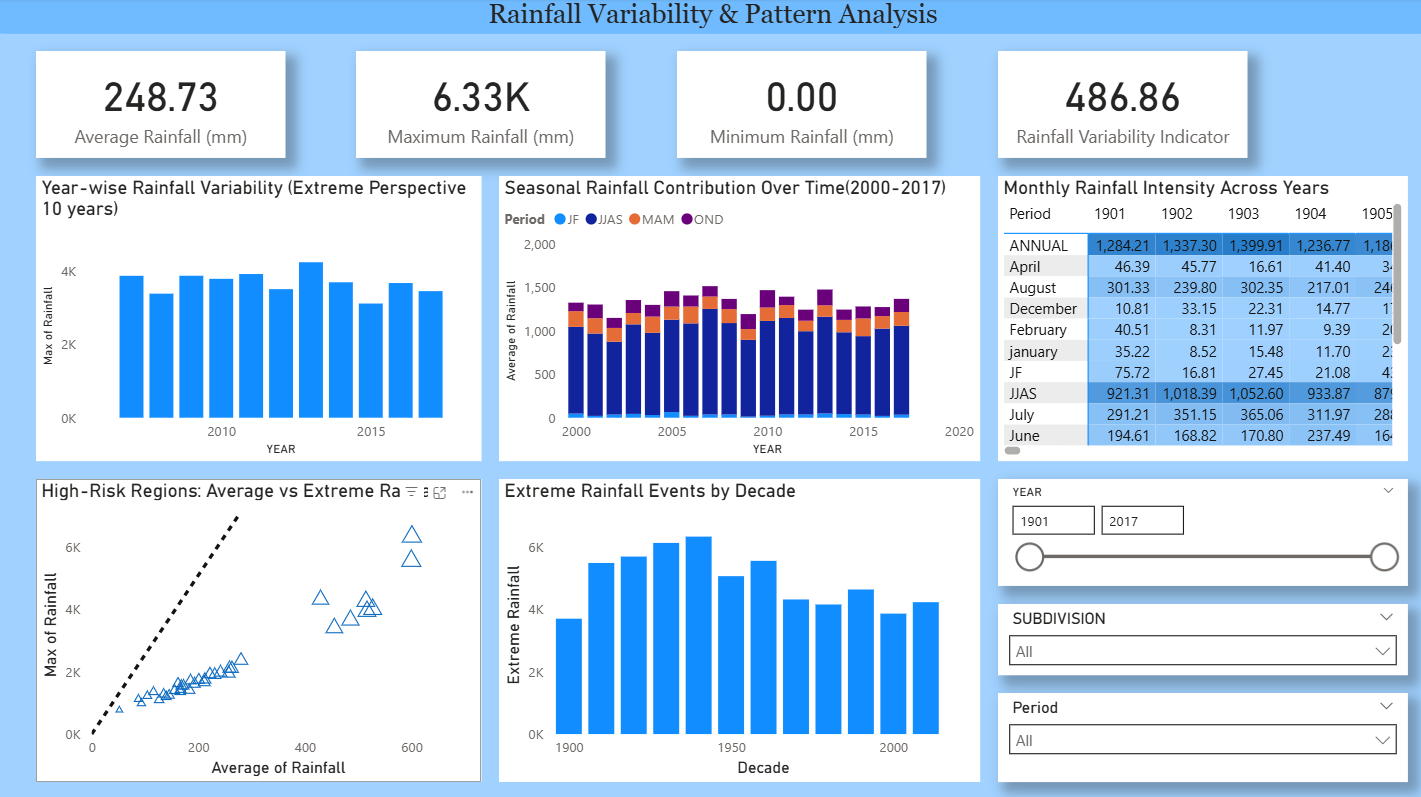

Layout of this report page (visuals, bound fields, positions):
{"tool":"powerbi","page":{"name":"Rainfall Variability & Patterns","canvas":[1280,720],"ordinal":2},"visuals":[{"type":"textbox","title":"Rainfall Variability & Pattern Analysis","box":[0,0,1280,32],"z":0},{"type":"card","fields":{"Values":["Avg(Fact_Rainfall.Rainfall)"]},"box":[32,48,224,96],"z":1000},{"type":"card","fields":{"Values":["Max(Fact_Rainfall.Rainfall)"]},"box":[320,48,224,96],"z":2000},{"type":"card","fields":{"Values":["Min(Fact_Rainfall.Rainfall)"]},"box":[608,48,224,96],"z":3000},{"type":"card","fields":{"Values":["Sum(Fact_Rainfall.Rainfall)"]},"box":[896,48,224,96],"z":4000},{"type":"clusteredColumnChart","title":"Year-wise Rainfall Variability (Extreme Perspective 10 years)","fields":{"Category":["Dim_Year.YEAR"],"Y":["Max(Fact_Rainfall.Rainfall)"]},"box":[32,160,400,256],"z":5000},{"type":"scatterChart","title":"High-Risk Regions: Average vs Extreme Rainfall","fields":{"Category":["Dim_Subdivision.SUBDIVISION"],"Size":["Avg(Fact_Rainfall.Rainfall)"],"X":["Avg(Fact_Rainfall.Rainfall)"],"Y":["Max(Fact_Rainfall.Rainfall)1"]},"box":[32,432,400,272],"z":6000},{"type":"columnChart","title":"Seasonal Rainfall Contribution Over Time(2000-2017)","fields":{"Category":["Dim_Year.YEAR"],"Series":["Dim_Period.Period"],"Y":["Avg(Fact_Rainfall.Rainfall)"]},"box":[448,160,432,256],"z":7000},{"type":"clusteredColumnChart","title":"Extreme Rainfall Events by Decade","fields":{"Category":["Dim_Year.Decade"],"Y":["Dim_Year.Extreme Rainfall"]},"box":[448,432,432,272],"z":8000},{"type":"pivotTable","title":"Monthly Rainfall Intensity Across Years","fields":{"Columns":["Dim_Year.YEAR"],"Rows":["Dim_Period.Period"],"Values":["Avg(Fact_Rainfall.Rainfall)"]},"box":[896,152,368,256],"z":9000},{"type":"slicer","fields":{"Values":["Dim_Year.YEAR"]},"box":[896,432,368,96],"z":10000},{"type":"slicer","fields":{"Values":["Dim_Subdivision.SUBDIVISION"]},"box":[896,544,368,64],"z":11000},{"type":"slicer","fields":{"Values":["Dim_Period.Period"]},"box":[896,624,368,80],"z":12000}]}

Visuals, with their boxes in screenshot pixels (x1, y1, x2, y2), scaled from the page's 1280x720 canvas onto the 1421x797 screenshot:
"Rainfall Variability & Pattern Analysis" textbox: {"x1": 0, "y1": 0, "x2": 1420, "y2": 35}
card - Avg(Fact_Rainfall.Rainfall): {"x1": 36, "y1": 53, "x2": 284, "y2": 159}
card - Max(Fact_Rainfall.Rainfall): {"x1": 355, "y1": 53, "x2": 604, "y2": 159}
card - Min(Fact_Rainfall.Rainfall): {"x1": 675, "y1": 53, "x2": 924, "y2": 159}
card - Sum(Fact_Rainfall.Rainfall): {"x1": 995, "y1": 53, "x2": 1243, "y2": 159}
"Year-wise Rainfall Variability (Extreme Perspective 10 years)" clusteredColumnChart: {"x1": 36, "y1": 177, "x2": 480, "y2": 460}
"High-Risk Regions: Average vs Extreme Rainfall" scatterChart: {"x1": 36, "y1": 478, "x2": 480, "y2": 779}
"Seasonal Rainfall Contribution Over Time(2000-2017)" columnChart: {"x1": 497, "y1": 177, "x2": 977, "y2": 460}
"Extreme Rainfall Events by Decade" clusteredColumnChart: {"x1": 497, "y1": 478, "x2": 977, "y2": 779}
"Monthly Rainfall Intensity Across Years" pivotTable: {"x1": 995, "y1": 168, "x2": 1403, "y2": 452}
slicer - Dim_Year.YEAR: {"x1": 995, "y1": 478, "x2": 1403, "y2": 584}
slicer - Dim_Subdivision.SUBDIVISION: {"x1": 995, "y1": 602, "x2": 1403, "y2": 673}
slicer - Dim_Period.Period: {"x1": 995, "y1": 691, "x2": 1403, "y2": 779}
